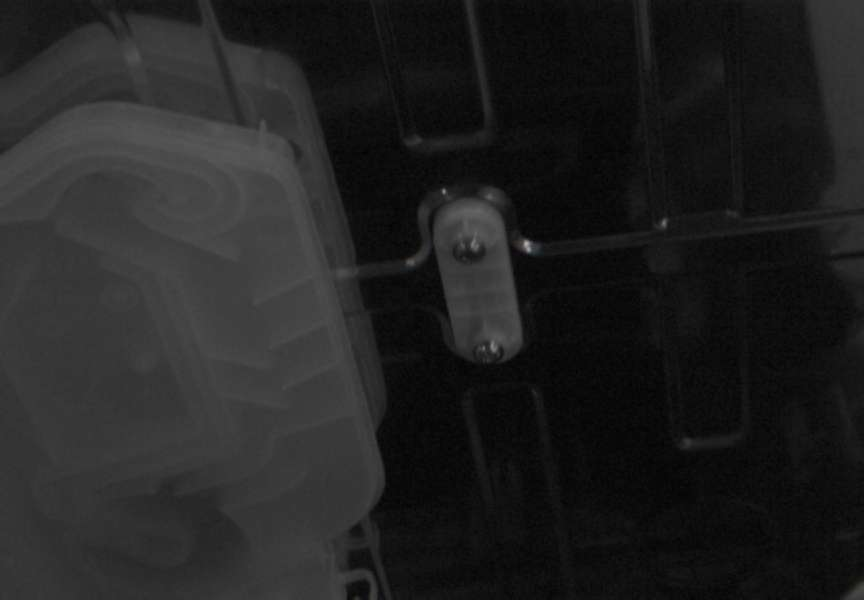screw: (453, 236, 486, 264), (473, 340, 505, 365)
